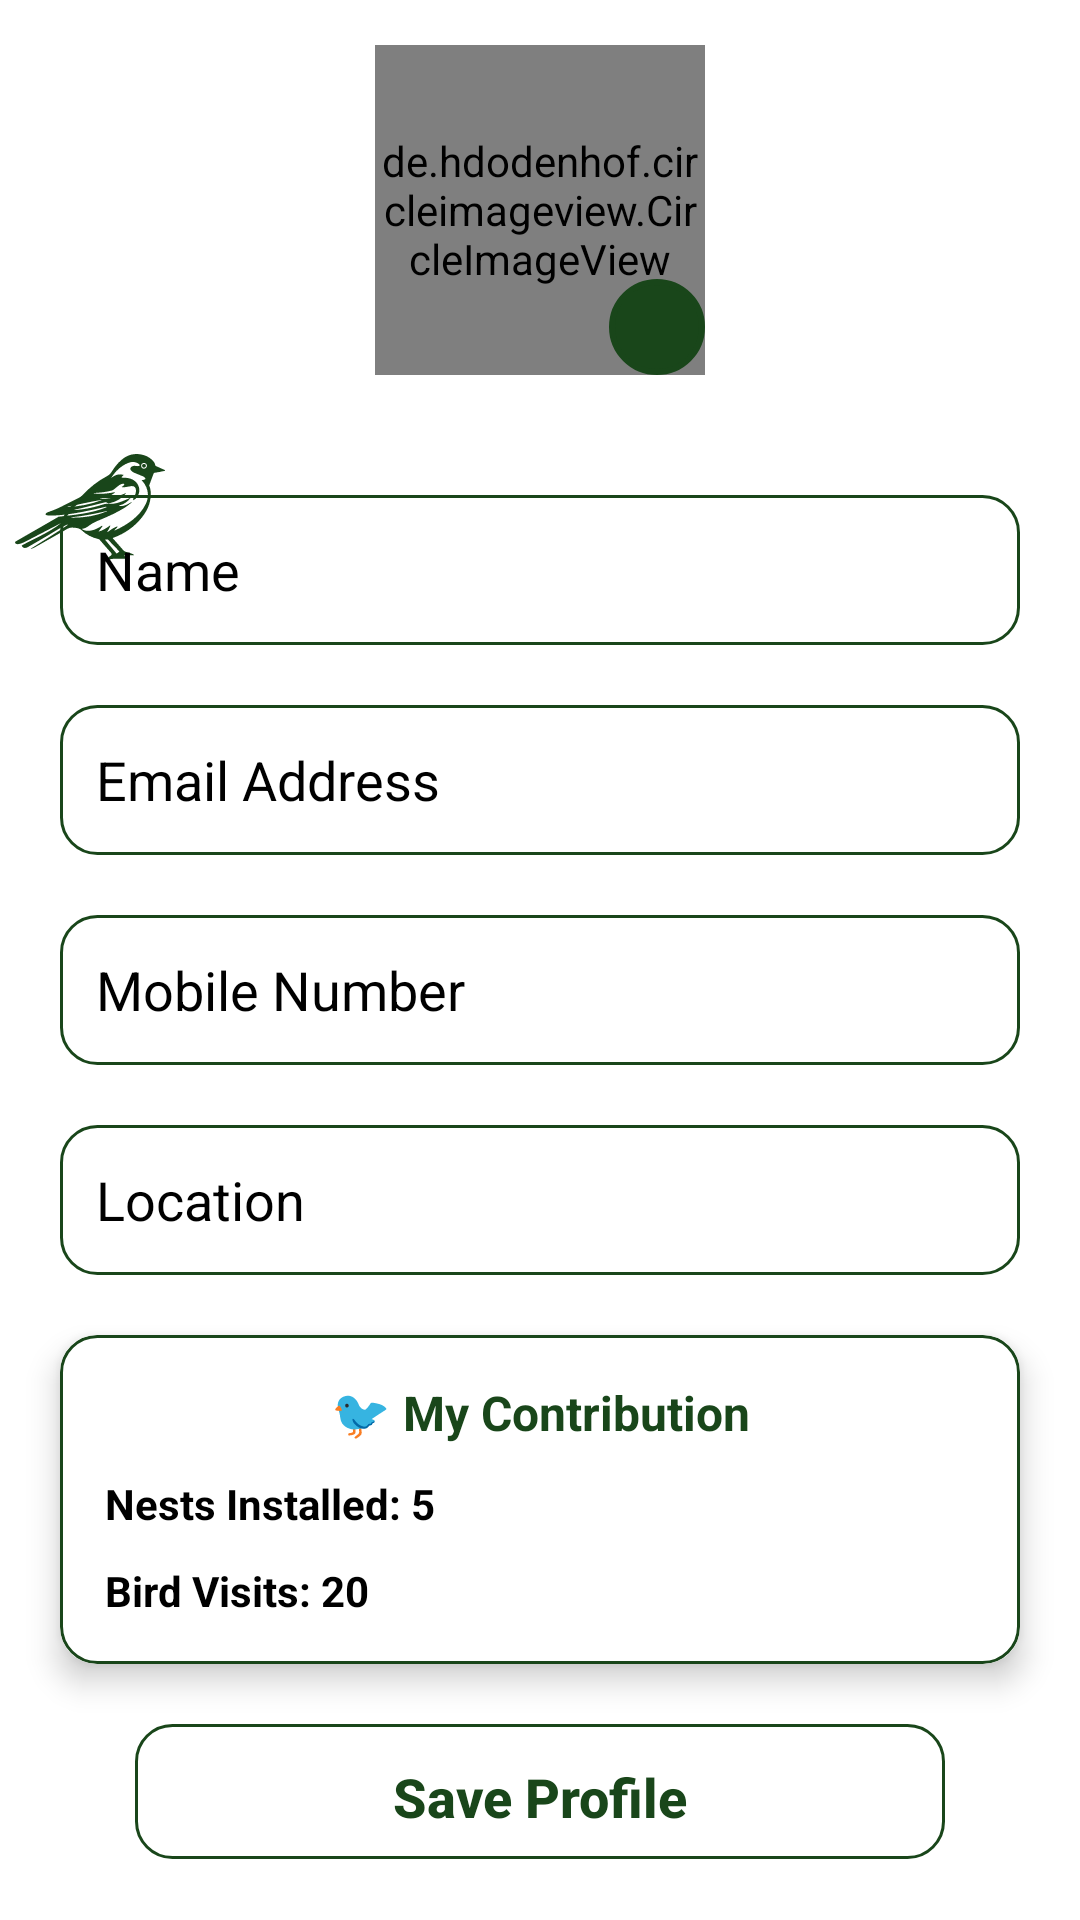

Named icons in this screenshot (1080w x 1920h) and their centers, [x,y]:
birds: [90,519]
